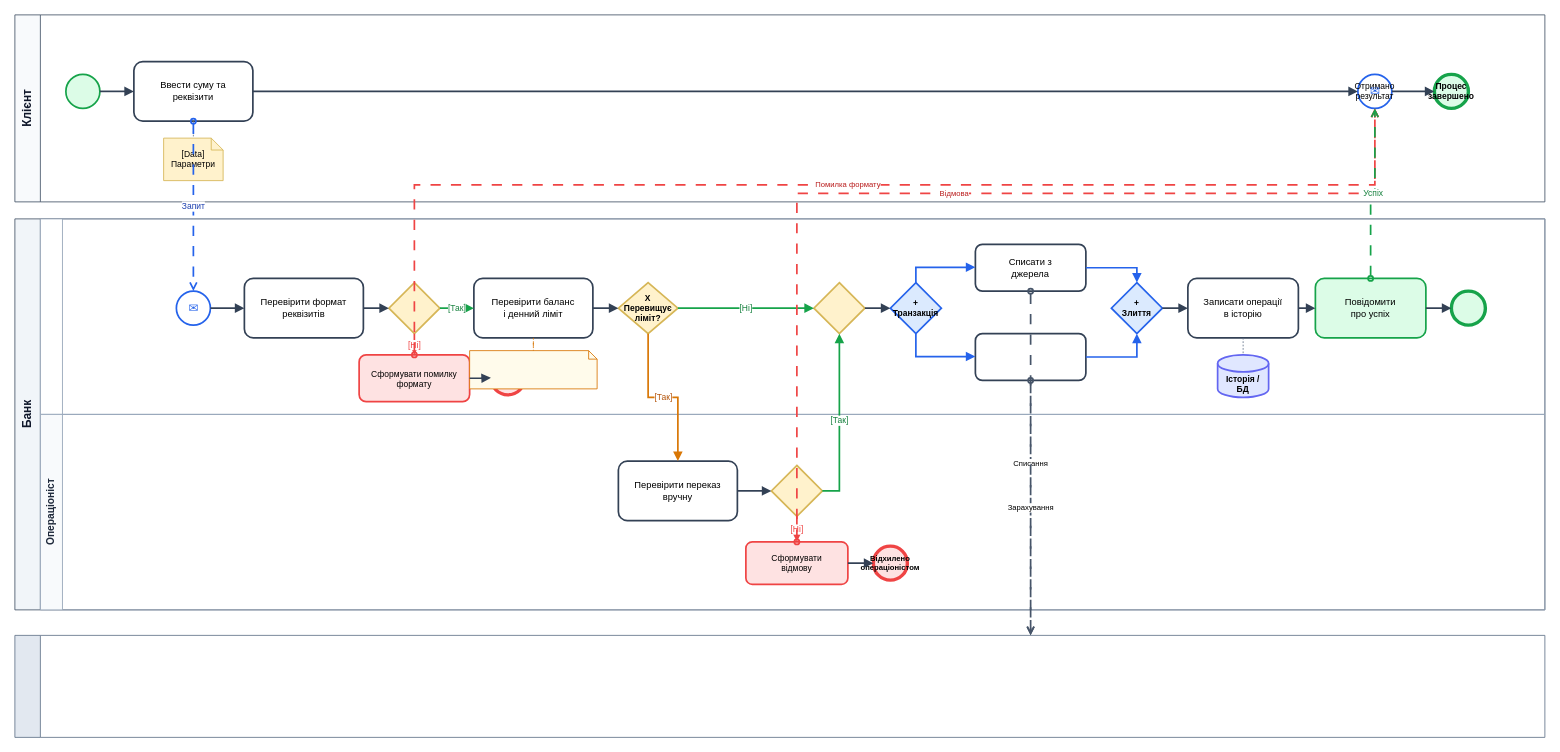
The diagram is 1560 pixels wide and 752 high, and some of its shapes have lost their labels. Here are the shapes that lost their labels. From the top down, the box of each, then its label:
(65, 73, 100, 109): Потреба в переказі
(175, 290, 211, 326): Отримано запит
(388, 281, 440, 334): X Формат ок?
(40, 218, 1545, 414): Система
(813, 281, 865, 334): X Злиття
(1449, 289, 1487, 326): Переказ виконано
(469, 350, 597, 389): [BL-40] Денний ліміт: 50 000 грн Залишок ≥ сума
(974, 332, 1086, 381): Зарахувати одержувачу
(770, 464, 823, 517): X Схвалено?
(14, 635, 1545, 737): Процесинговий центр
